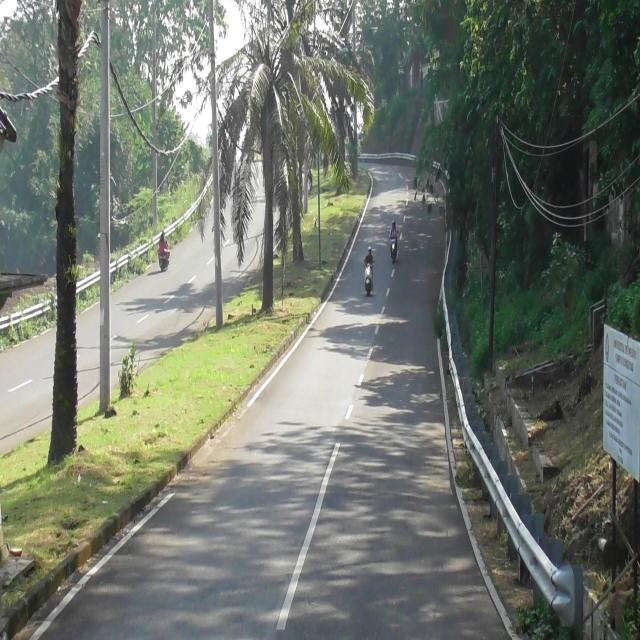motorcycle: (363, 262, 374, 294), (156, 250, 170, 272), (389, 232, 398, 260)
person: (388, 218, 399, 242), (365, 243, 375, 268), (158, 231, 168, 256)
rider_region: (156, 228, 170, 270)
